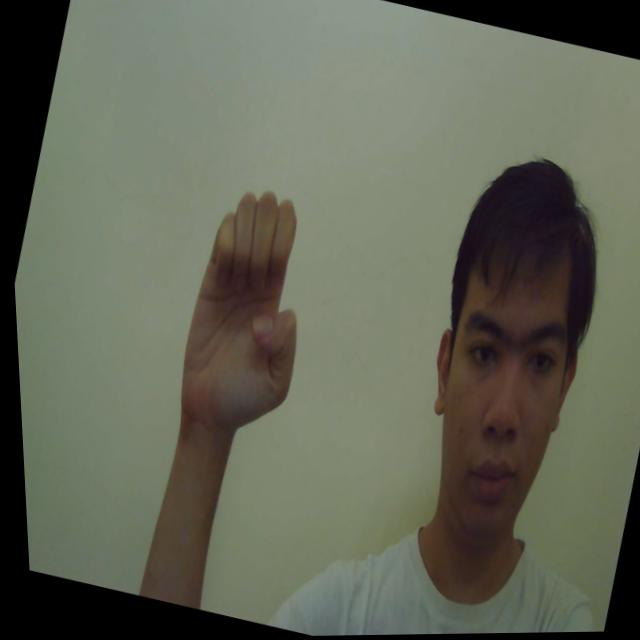E: (159, 174, 337, 439)
